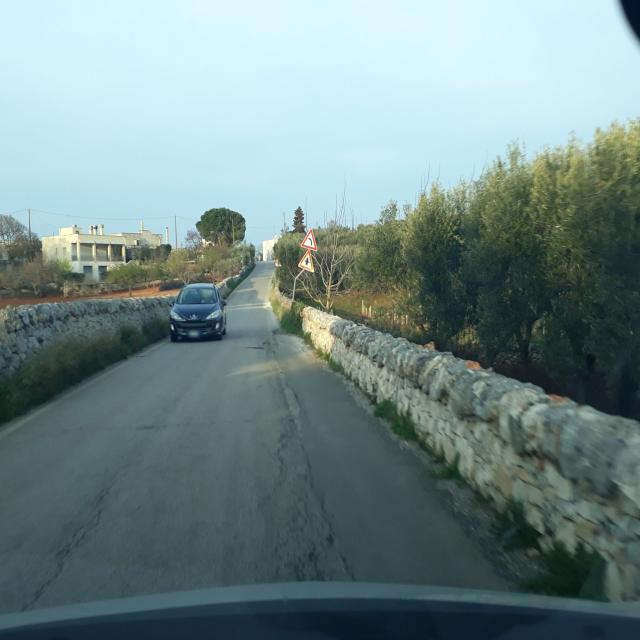car: (169, 282, 228, 342)
